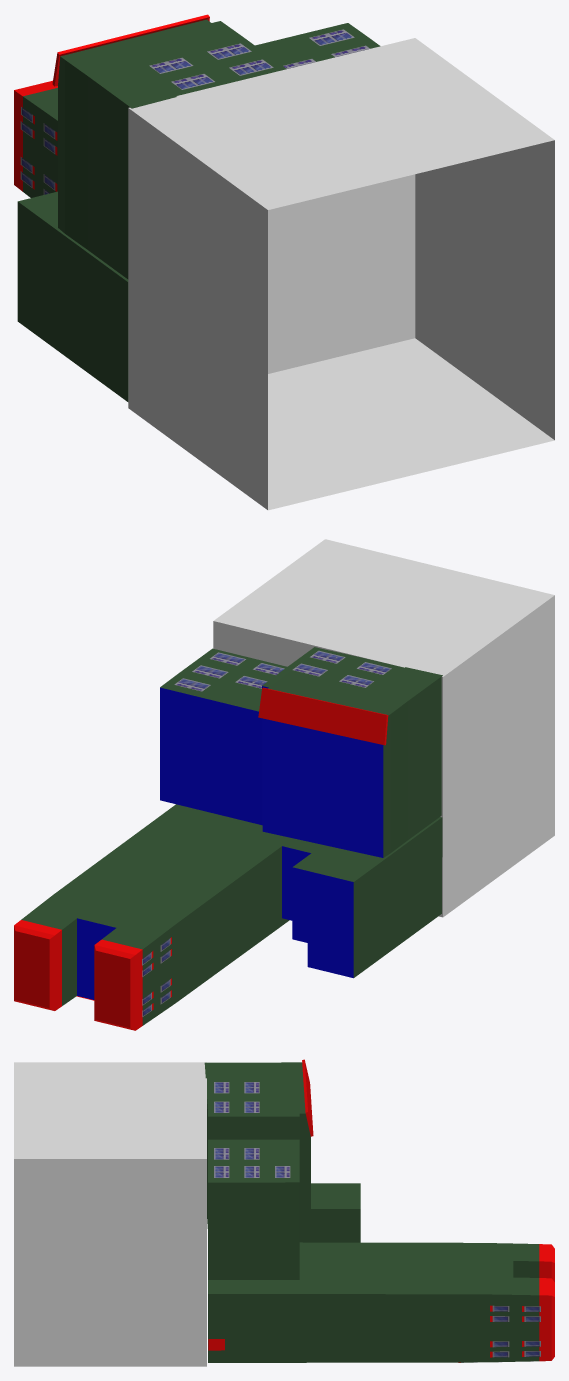
Rendered from block_medium_02.FBX.
3 renders of one model, top to bottom at view 1: azimuth 30°, elevation 25°; view 2: azimuth 150°, elevation 25°; view 3: azimuth 270°, elevation 25°, orthographic. The views are drawn at different scales.
Parts seen in each view (by area): view 1: Plane002, building_3s_004, Object088, building_3s_009; view 2: Plane002, building_3s_004, building_3s_009, Object088, Object089; view 3: Plane002, building_3s_009, building_3s_004, Object088.
Part boxes in pixels (box(x1,y1,x2,y2)): Plane002: box(128, 38, 554, 510); building_3s_004: box(52, 14, 380, 279); Object088: box(17, 191, 128, 401); building_3s_009: box(14, 80, 57, 197); Plane002: box(213, 539, 554, 917); building_3s_004: box(160, 647, 442, 857); building_3s_009: box(14, 804, 292, 1030); Object088: box(292, 817, 442, 978); Object089: box(282, 838, 322, 920); Plane002: box(14, 1062, 206, 1366); building_3s_009: box(208, 1242, 554, 1362); building_3s_004: box(204, 1059, 313, 1279); Object088: box(299, 1183, 360, 1242).
Bounding box in the file's own units: 30.35 × 30.4 × 70.88.
